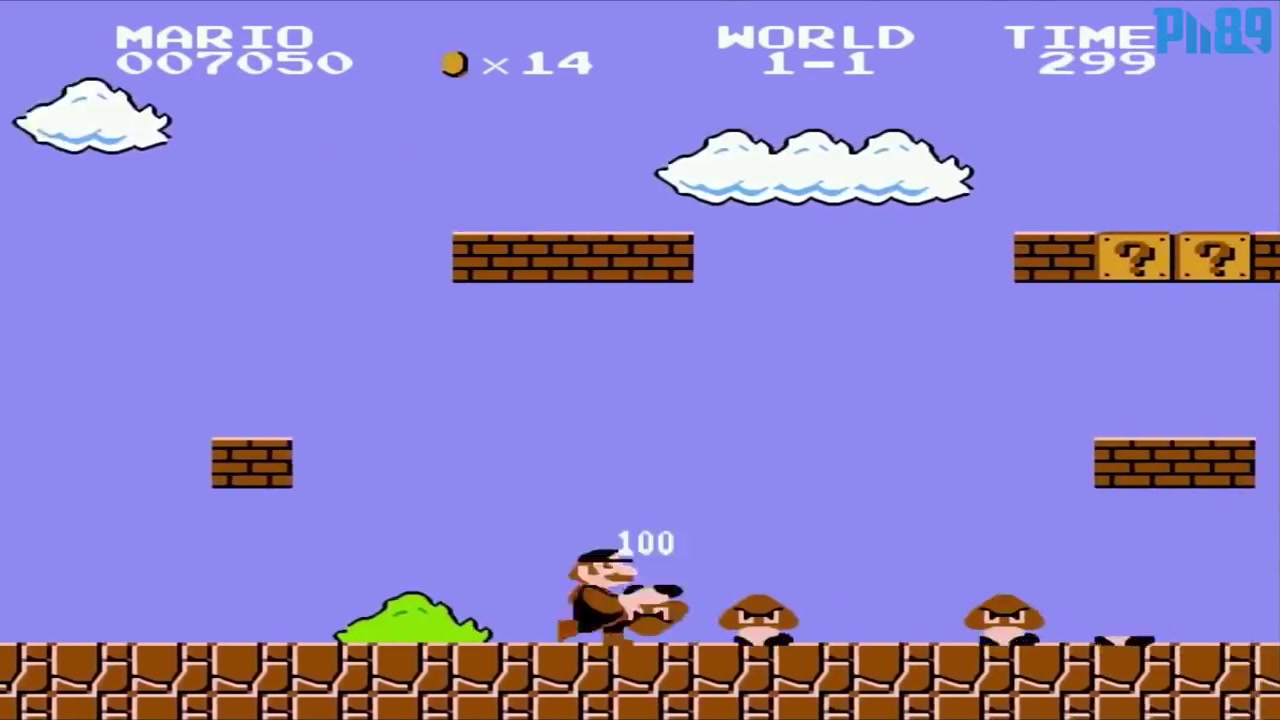mario: (545, 533, 645, 646)
